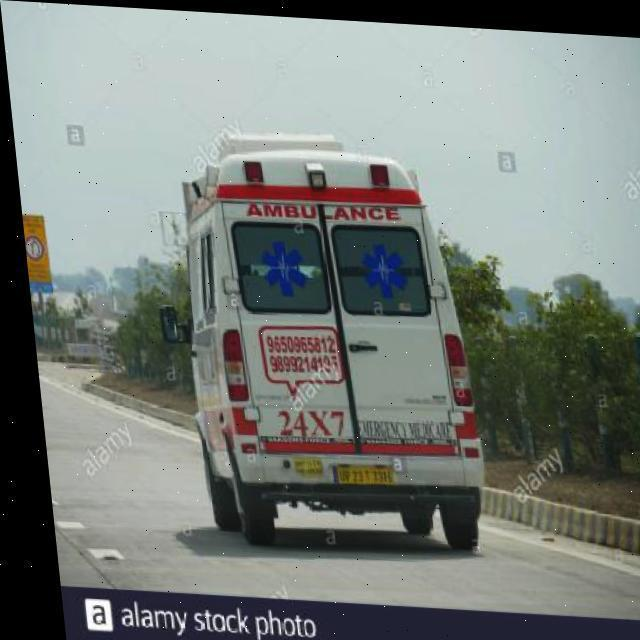Ambulance: (29, 350, 640, 616), (145, 122, 488, 558)
